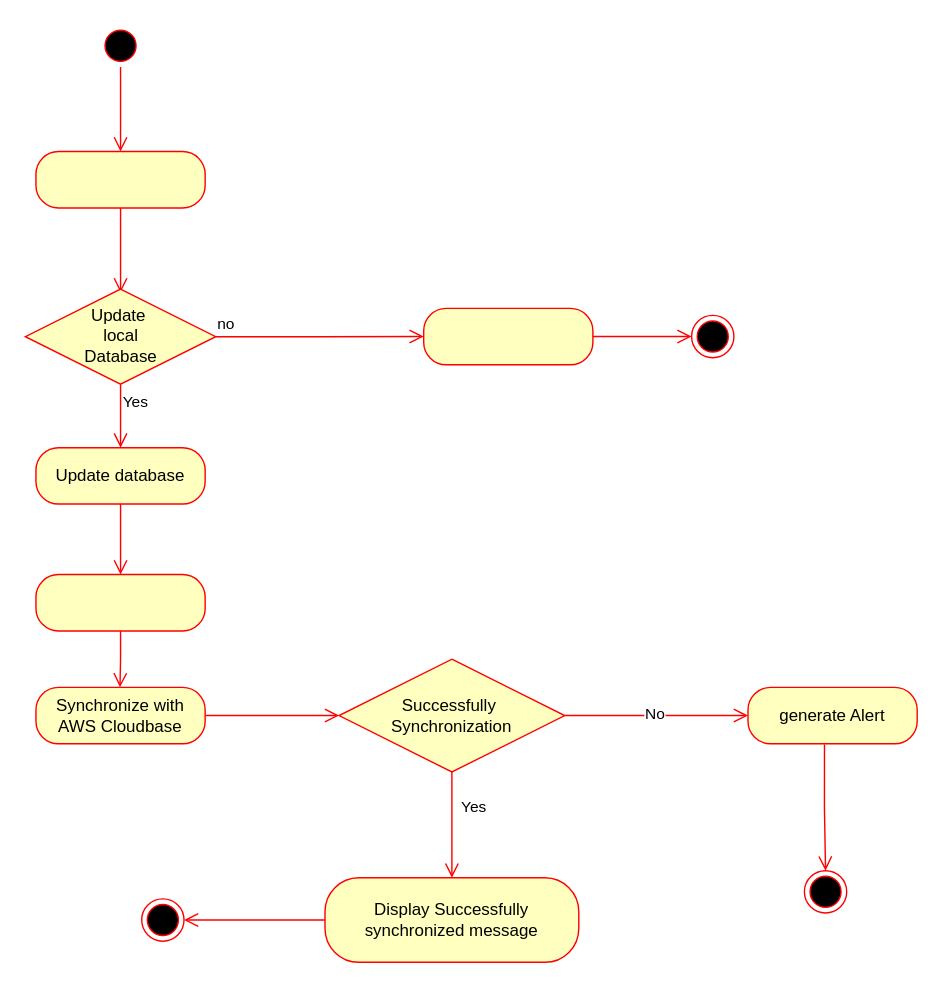
The diagram is 942 pixels wide and 987 high, and some of its shapes have lost their labels. The centre of each missing label's shape, as x and y in pixels:
Create local database copy: the point at 120,602
Display error message: the point at 507,336
Triggure initiated by System: the point at 120,179
